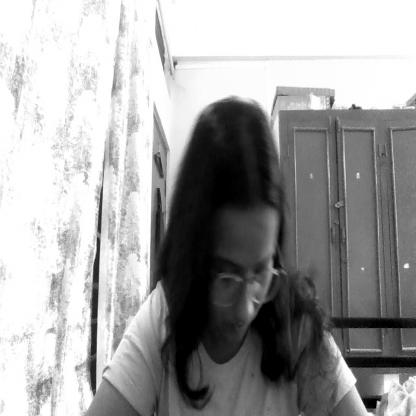Distracted: (185, 129, 286, 356)
